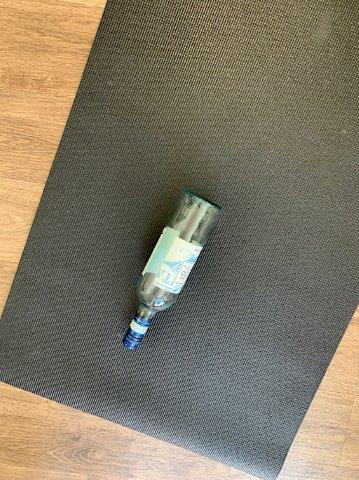botolkaca: (123, 190, 222, 352)
